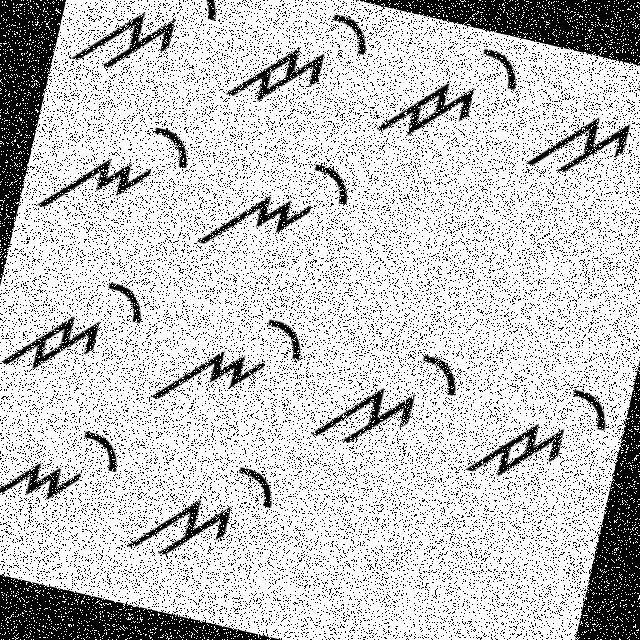jay: (457, 354, 621, 508), (368, 18, 533, 170), (0, 242, 157, 400), (218, 0, 379, 133)
nyay: (33, 89, 204, 252), (189, 129, 364, 282), (150, 286, 312, 434), (0, 402, 130, 545)
say: (118, 434, 290, 588), (302, 318, 468, 472), (526, 58, 639, 197), (69, 0, 224, 99)
